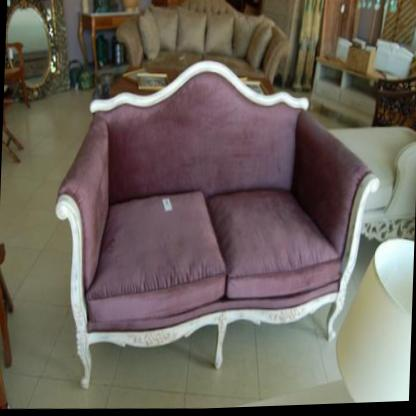Ceramic floor: (0, 91, 354, 410)
Sofa: (49, 50, 393, 402)
